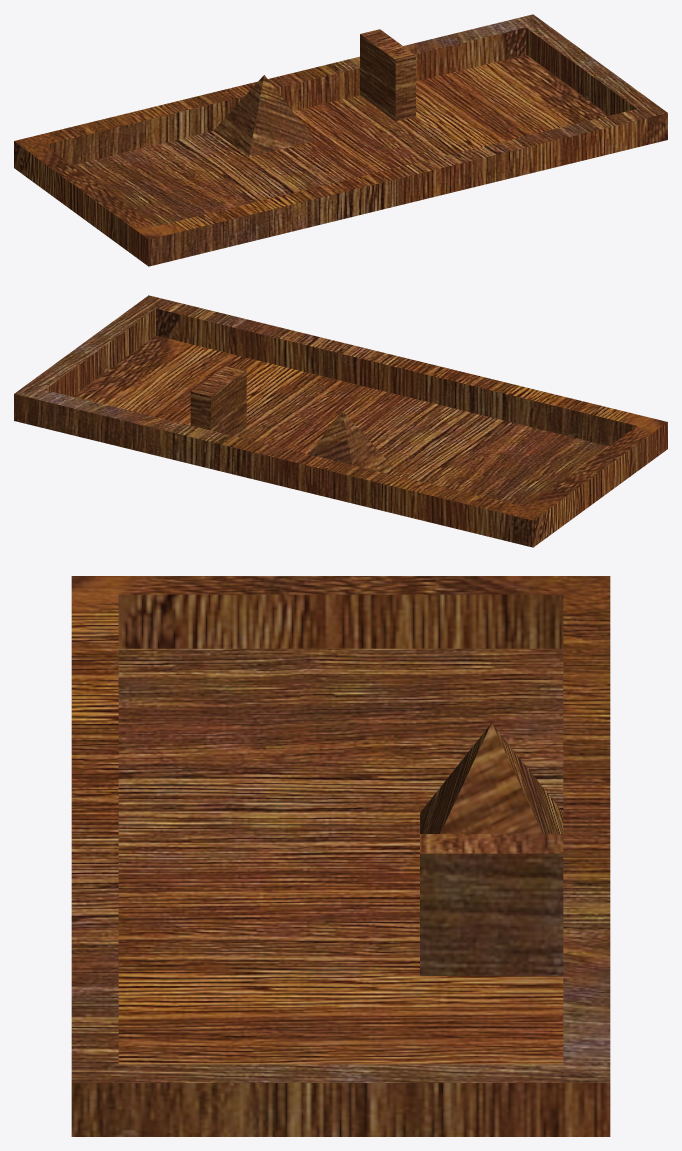
Rendered from palya_tris.obj.
3 views of the same model, one above another, from view 1: azimuth 30°, elevation 25°; view 2: azimuth 150°, elevation 25°; view 3: azimuth 270°, elevation 25° (orthographic). The views are drawn at different scales.
Visible parts, largest first — view 1: Plane; view 2: Plane; view 3: Plane.
Boxes of the visible parts, x1,y1,x2,y2 form: Plane: [14, 14, 667, 266]; Plane: [14, 295, 667, 547]; Plane: [71, 576, 610, 1136].
Bounding box in the file's own units: 5.62 × 0.6338 × 2.53.
